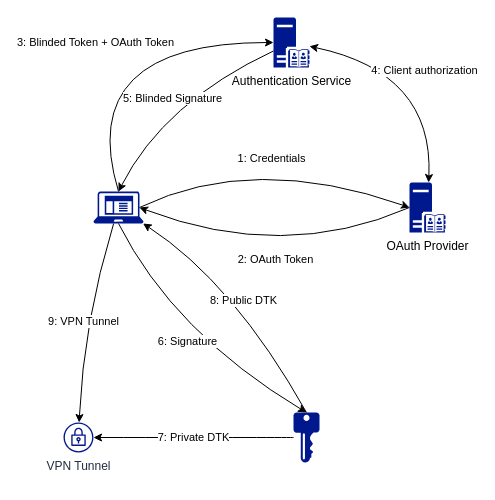
Image size: 495x500. Some labels were removed from this diagram. Here are the shapes that lost their labels. From the top down, the centre of each, then its label:
[118,207]: Client
[306,437]: Key Management Service
